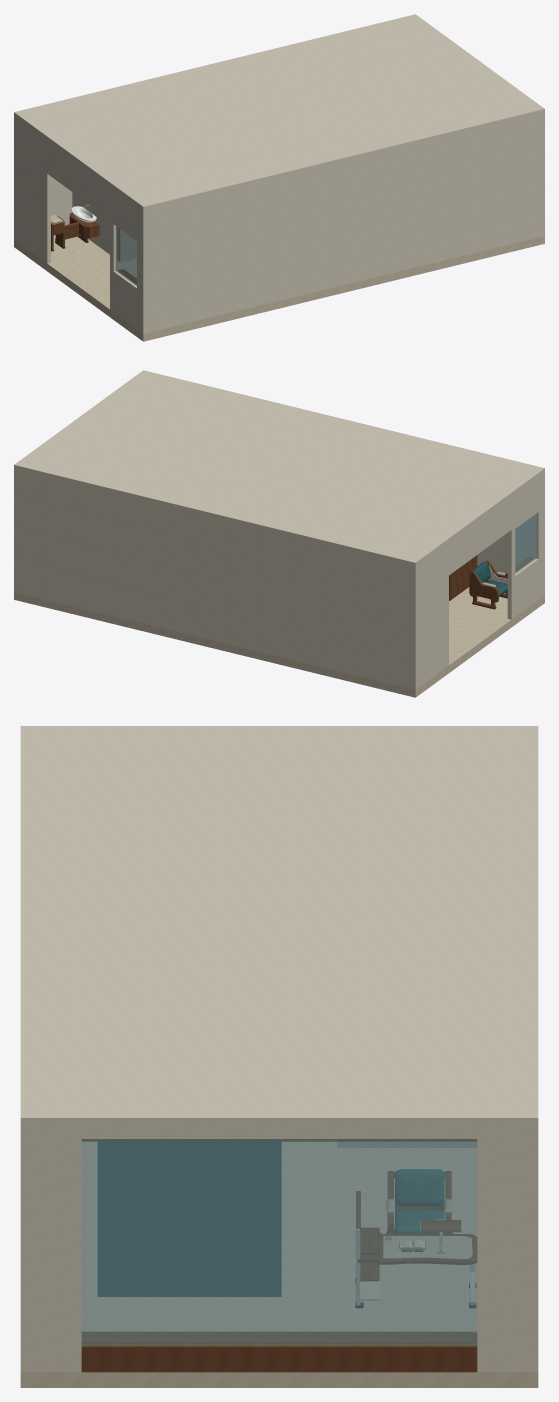
Rendered from QuietGroveSpecialty_147_r001.glb.
The picture shows the model from 3 angles, top to bottom: view 1: azimuth 30°, elevation 25°; view 2: azimuth 150°, elevation 25°; view 3: azimuth 270°, elevation 25°; orthographic projection. The views are drawn at different scales.
Visible parts, largest first — view 1: QG147_Ceiling, QG147_NorthSide, QG147_RoomFloor, QG147_EntryShoulderSouth, QG147_EntryHeader, QG147_StreetWindowLower, QG147_StreetWindowUpper, QG147_SouthSide, QG147_ScreenedStreetGlass, QG147_WashEntrySide, QG147_QG147_WashBasin__VAN_WallCabinet; view 2: QG147_Ceiling, QG147_SouthSide, QG147_RoomFloor, QG147_EntryShoulderSouth, QG147_EntryHeader, QG147_NorthSide, QG147_StreetWindowLower, QG147_StreetWindowUpper, QG147_ScreenedStreetGlass, QG147_EntryPrivacyDogleg, QG147_QG147_StreetReadingChair__DAY_CHAIR_L_swept_walnut_che, QG147_StreetWindowInnerMullion; view 3: QG147_Ceiling, QG147_CourtPanoramicGlass, QG147_RoomFloor, QG147_Cocoon01_RearLiner, QG147_CourtJambNorth, QG147_CourtJambSouth, QG147_CourtSill, QG147_CourtHeader, QG147_CourtRevealBottom, QG147_SouthSide, QG147_NorthSide, QG147_QG147_DayReadingChair__DAY_CHAIR_single_reclined_back (+6 smaller).
Part boxes in pixels (bbox=[...]): QG147_Ceiling: bbox=[14, 14, 544, 211]; QG147_NorthSide: bbox=[141, 114, 544, 333]; QG147_RoomFloor: bbox=[14, 235, 544, 341]; QG147_EntryShoulderSouth: bbox=[16, 119, 50, 263]; QG147_EntryHeader: bbox=[47, 142, 110, 219]; QG147_StreetWindowLower: bbox=[110, 269, 141, 331]; QG147_StreetWindowUpper: bbox=[110, 188, 141, 243]; QG147_SouthSide: bbox=[14, 117, 72, 240]; QG147_ScreenedStreetGlass: bbox=[115, 226, 136, 285]; QG147_WashEntrySide: bbox=[72, 192, 123, 261]; QG147_QG147_WashBasin__VAN_WallCabinet: bbox=[69, 213, 99, 238]; QG147_Ceiling: bbox=[14, 370, 544, 567]; QG147_SouthSide: bbox=[14, 470, 417, 689]; QG147_RoomFloor: bbox=[14, 587, 544, 697]; QG147_EntryShoulderSouth: bbox=[417, 544, 448, 687]; QG147_EntryHeader: bbox=[448, 497, 512, 575]; QG147_NorthSide: bbox=[477, 473, 544, 596]; QG147_StreetWindowLower: bbox=[507, 556, 542, 619]; QG147_StreetWindowUpper: bbox=[510, 475, 542, 531]; QG147_ScreenedStreetGlass: bbox=[515, 514, 536, 573]; QG147_EntryPrivacyDogleg: bbox=[449, 555, 477, 600]; QG147_QG147_StreetReadingChair__DAY_CHAIR_L_swept_walnut_che: bbox=[469, 571, 498, 602]; QG147_StreetWindowInnerMullion: bbox=[507, 529, 515, 578]; QG147_Ceiling: bbox=[20, 726, 538, 1128]; QG147_CourtPanoramicGlass: bbox=[81, 1139, 477, 1345]; QG147_RoomFloor: bbox=[20, 1142, 538, 1387]; QG147_Cocoon01_RearLiner: bbox=[102, 1142, 276, 1296]; QG147_CourtJambNorth: bbox=[477, 1124, 538, 1372]; QG147_CourtJambSouth: bbox=[20, 1124, 81, 1372]; QG147_CourtSill: bbox=[81, 1344, 477, 1372]; QG147_CourtHeader: bbox=[81, 1124, 477, 1138]; QG147_CourtRevealBottom: bbox=[82, 1332, 476, 1343]; QG147_SouthSide: bbox=[529, 1128, 538, 1372]; QG147_NorthSide: bbox=[20, 1128, 29, 1372]; QG147_QG147_DayReadingChair__DAY_CHAIR_single_reclined_back: bbox=[394, 1169, 444, 1205].
Bounding box in the file's own units: 12.9 × 4.14 × 7.2.
Materials: 64 (49 with a texture image).
